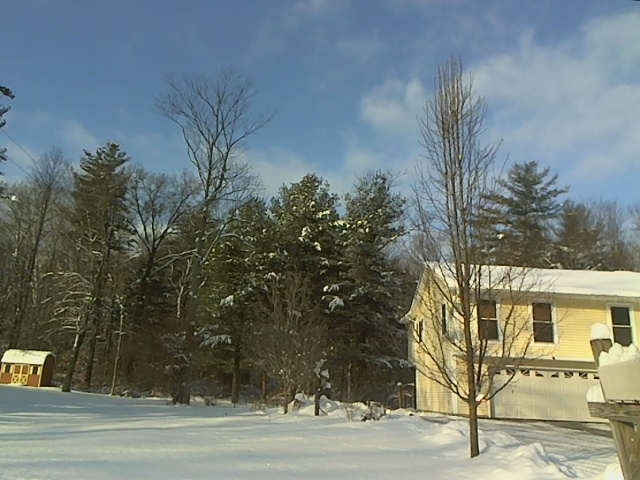Ploughed: (489, 417, 609, 462)
